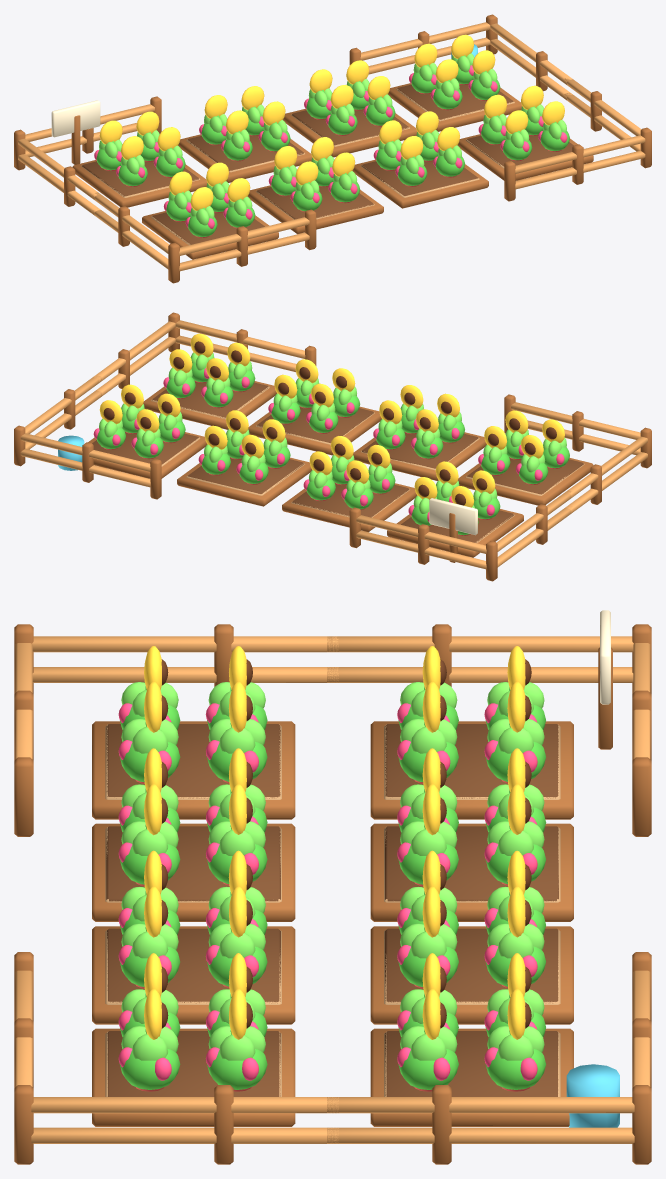
3 renders of one model, top to bottom at view 1: azimuth 30°, elevation 25°; view 2: azimuth 150°, elevation 25°; view 3: azimuth 270°, elevation 25°, orthographic. The views are drawn at different scales.
Visible parts, largest first — view 1: P3_Stage3_Sunflower, P2_Stage3_Sunflower, P8_Stage3_Sunflower, P5_Stage3_Sunflower, P6_Stage3_Sunflower, P1_Stage3_Sunflower, P4_Stage3_Sunflower, P7_Stage3_Sunflower, BedFrame_6, P5_Stage3_Berry, P7_Stage3_Berry, P6_Stage3_Berry (+52 smaller); view 2: P5_Stage3_Sunflower, P2_Stage3_Sunflower, P6_Stage3_Sunflower, P7_Stage3_Sunflower, P8_Stage3_Sunflower, P1_Stage3_Sunflower, P3_Stage3_Sunflower, P4_Stage3_Sunflower, BedFrame_2, P3_Stage3_Berry, P1_Stage3_Berry, P7_Stage3_Berry (+53 smaller); view 3: P7_SoilWet, P3_SoilWet, P2_SoilWet, P8_SoilWet, P6_SoilWet, P4_SoilWet, P1_SoilWet, P5_SoilWet, FenceRailBot_1, FenceRailTop_1, FenceRailTop_3, FenceRailBot_3 (+50 smaller).
Part boxes in pixels (<box>): P3_Stage3_Sunflower: <box>204,86,285,134</box>; P2_Stage3_Sunflower: <box>309,60,390,108</box>; P8_Stage3_Sunflower: <box>169,162,250,210</box>; P5_Stage3_Sunflower: <box>484,85,564,133</box>; P6_Stage3_Sunflower: <box>379,111,459,159</box>; P1_Stage3_Sunflower: <box>414,34,495,82</box>; P4_Stage3_Sunflower: <box>99,111,180,159</box>; P7_Stage3_Sunflower: <box>274,137,355,185</box>; BedFrame_6: <box>352,160,488,208</box>; P5_Stage3_Berry: <box>478,115,569,160</box>; P7_Stage3_Berry: <box>268,166,360,211</box>; P6_Stage3_Berry: <box>373,141,464,185</box>; P5_Stage3_Sunflower: <box>169,333,250,381</box>; P2_Stage3_Sunflower: <box>204,410,285,458</box>; P6_Stage3_Sunflower: <box>274,359,355,407</box>; P7_Stage3_Sunflower: <box>379,385,459,432</box>; P8_Stage3_Sunflower: <box>484,410,564,458</box>; P1_Stage3_Sunflower: <box>99,384,180,432</box>; P3_Stage3_Sunflower: <box>309,436,390,483</box>; P4_Stage3_Sunflower: <box>414,461,495,507</box>; BedFrame_2: <box>177,457,311,506</box>; P3_Stage3_Berry: <box>303,464,395,509</box>; P1_Stage3_Berry: <box>93,413,185,458</box>; P7_Stage3_Berry: <box>373,413,464,458</box>; P7_SoilWet: <box>106,826,280,901</box>; P3_SoilWet: <box>385,826,558,901</box>; P2_SoilWet: <box>385,928,558,1003</box>; P8_SoilWet: <box>106,724,280,798</box>; P6_SoilWet: <box>107,928,280,1003</box>; P4_SoilWet: <box>385,724,558,798</box>; P1_SoilWet: <box>385,1031,558,1096</box>; P5_SoilWet: <box>107,1031,280,1096</box>; FenceRailBot_1: <box>327,1127,634,1143</box>; FenceRailTop_1: <box>327,1097,634,1113</box>; FenceRailTop_3: <box>31,1097,338,1113</box>; FenceRailBot_3: <box>31,1127,338,1143</box>.
Size of the model in its own units: 9.16 by 1.05 by 5.26.
